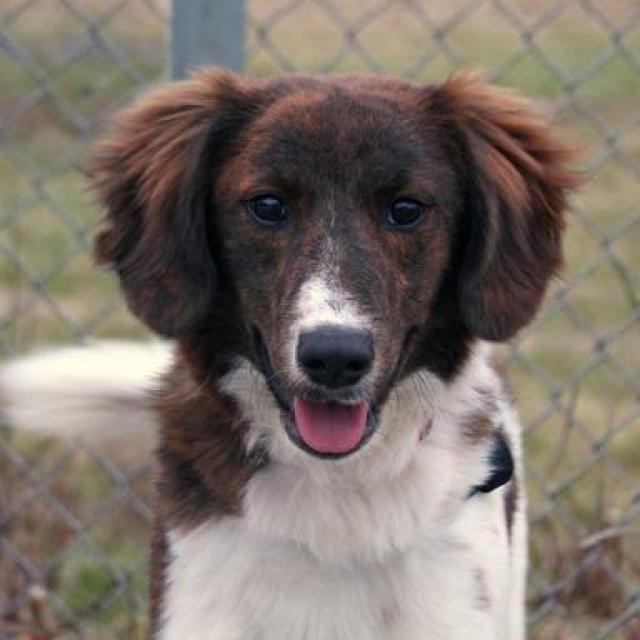happy: (54, 23, 584, 640)
